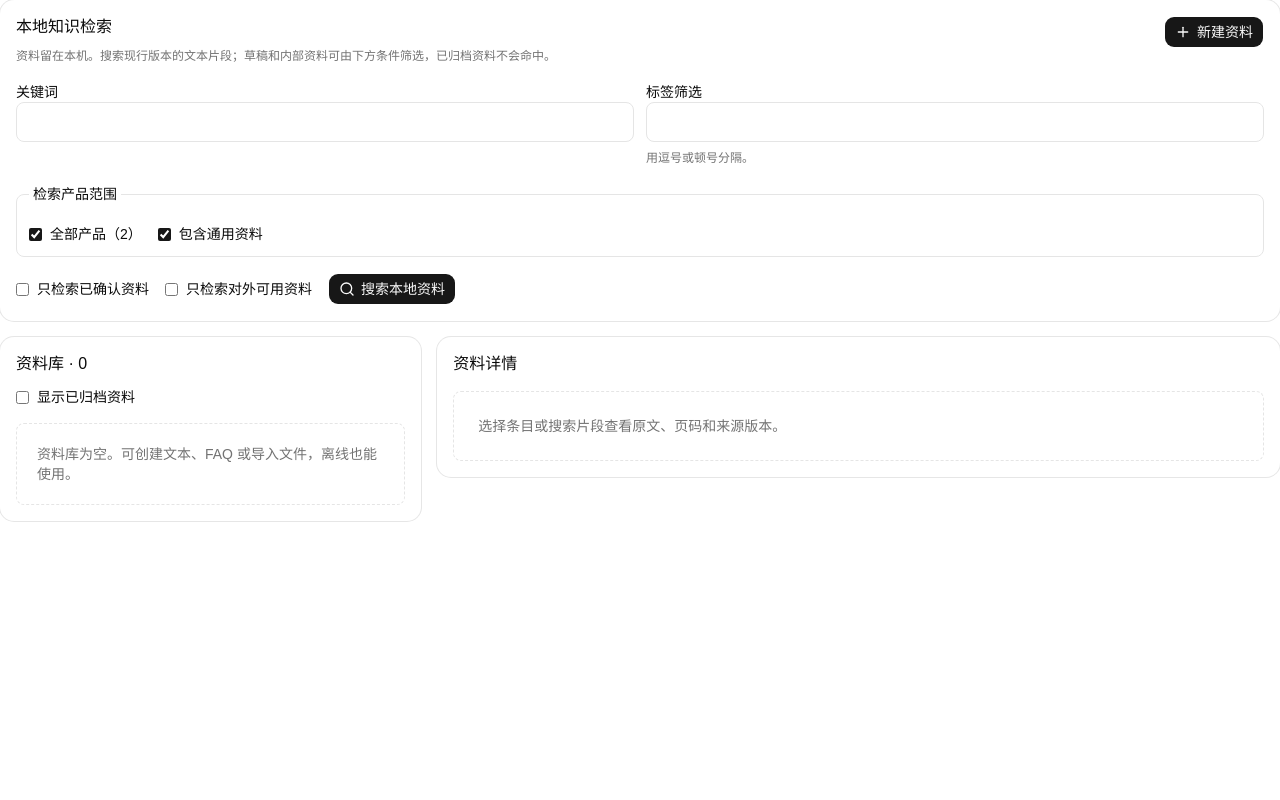
Test: local knowledge workspace › retrieves native saved material with all scope when the document cache is stale and empty
Click the checkbox labelled "包含通用资料" at {"x": 164, "y": 234}, box [158,228,171,240]
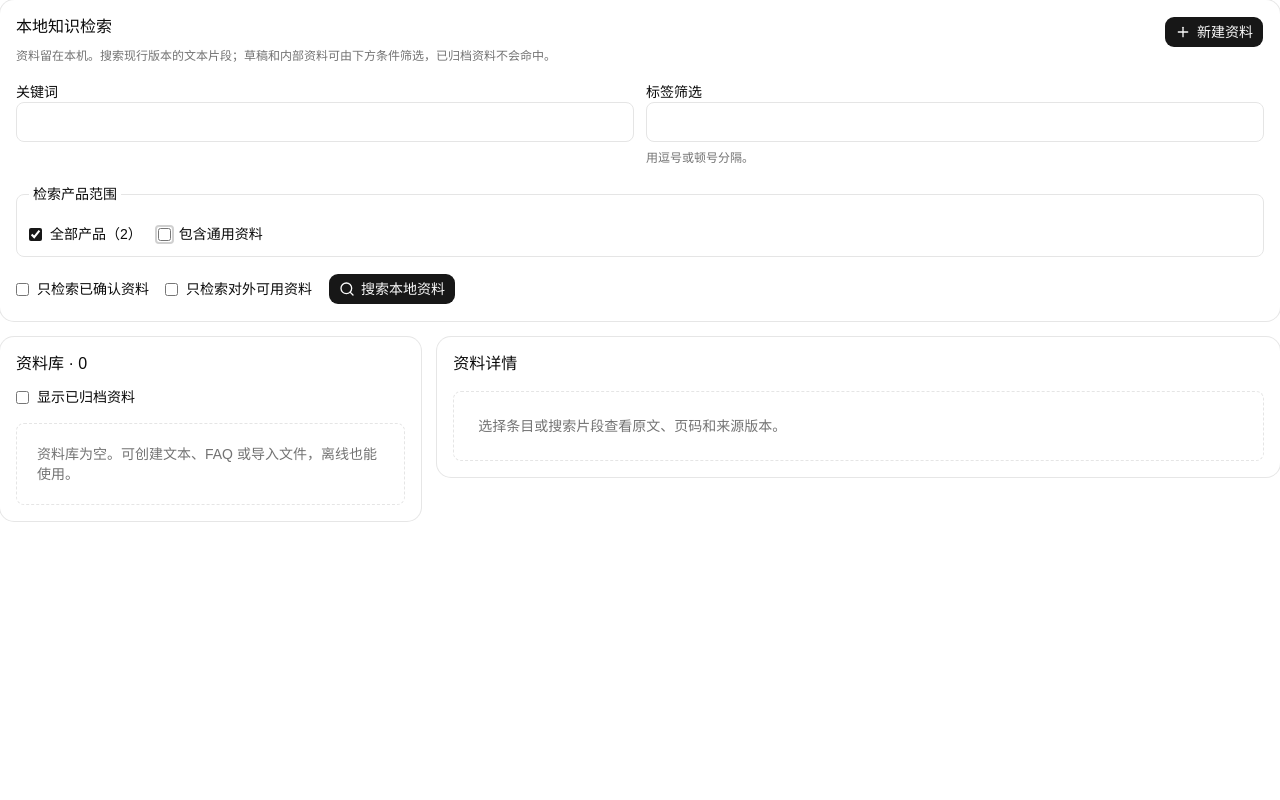
Type "容量" into the field labelled "关键词" at {"x": 325, "y": 122}, box [16,102,634,142]
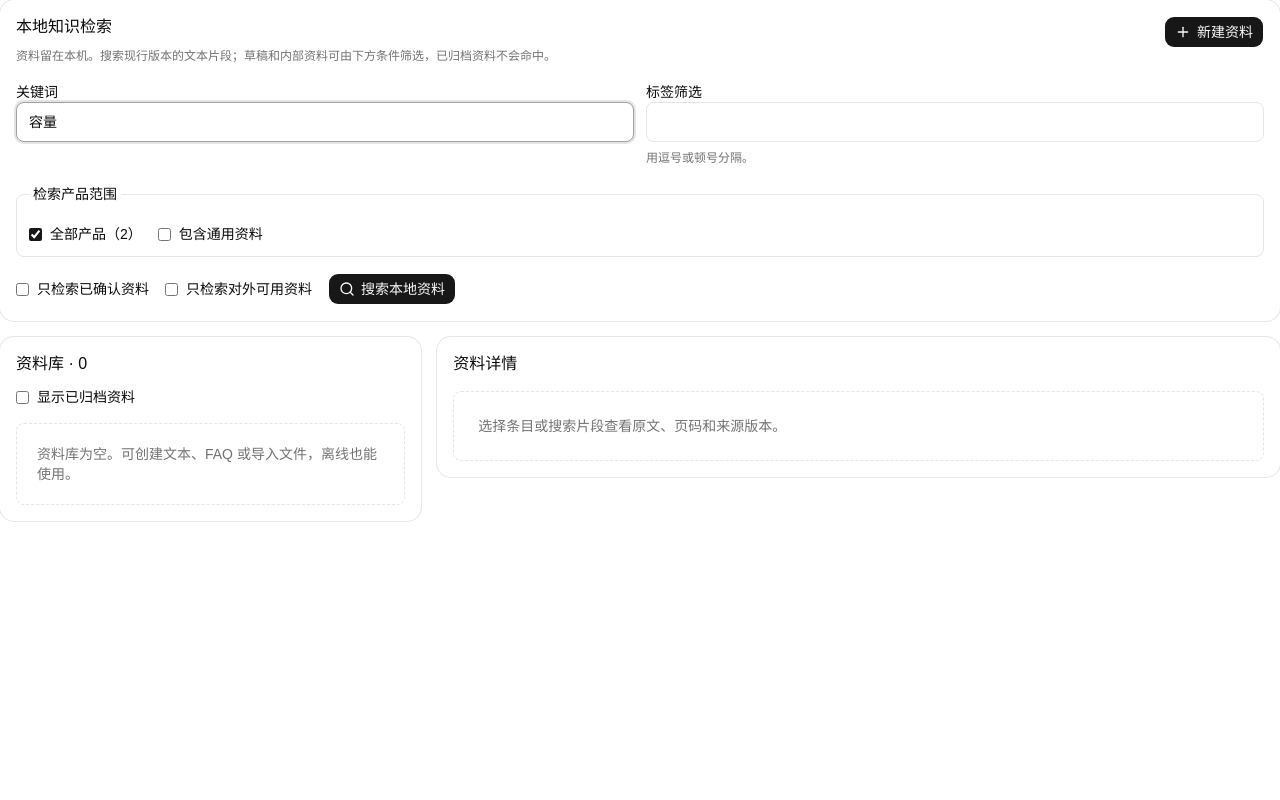
Click the button "搜索本地资料" at {"x": 392, "y": 289}, box [328,273,456,305]
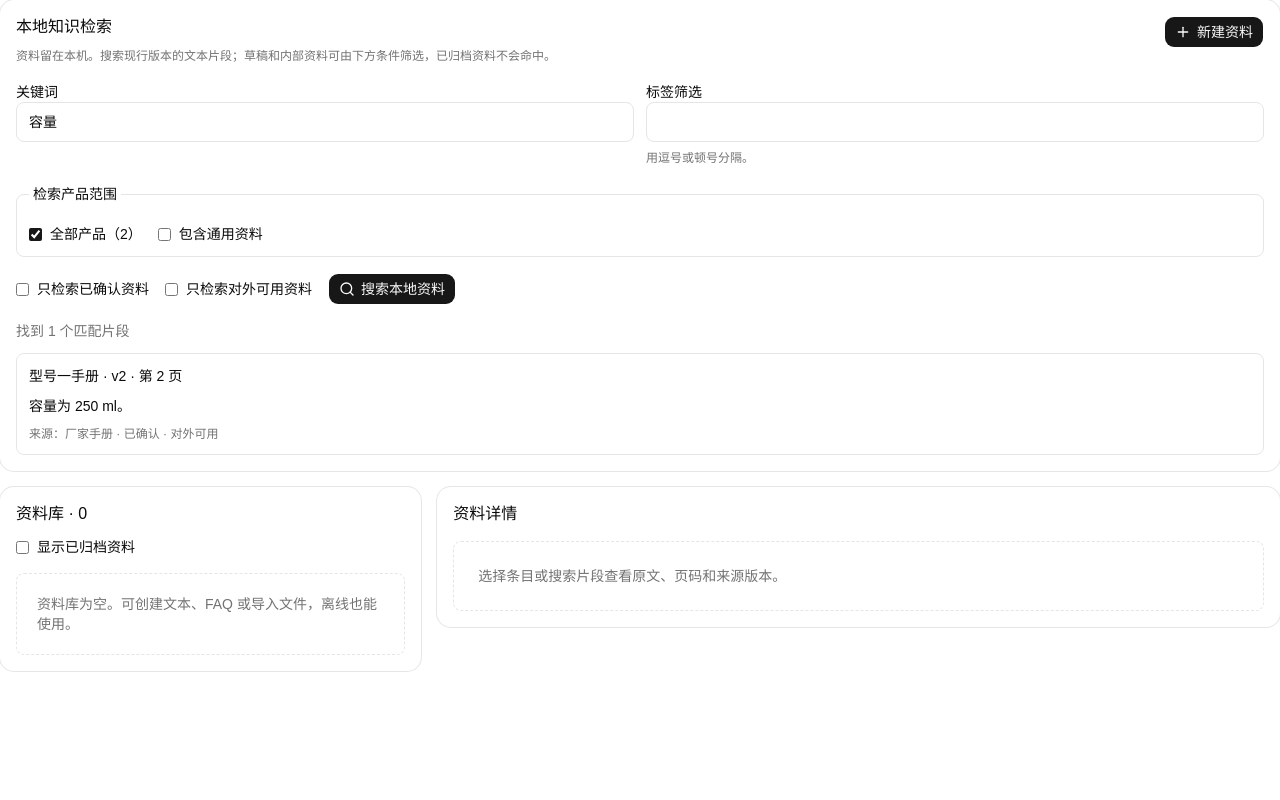
Check: the button "型号一手册 · v2 · 第 2 页 容量为 250 ml。 来源：厂家手册 · 已确认 · 对外可用" is shown, box [16,353,1264,455]
